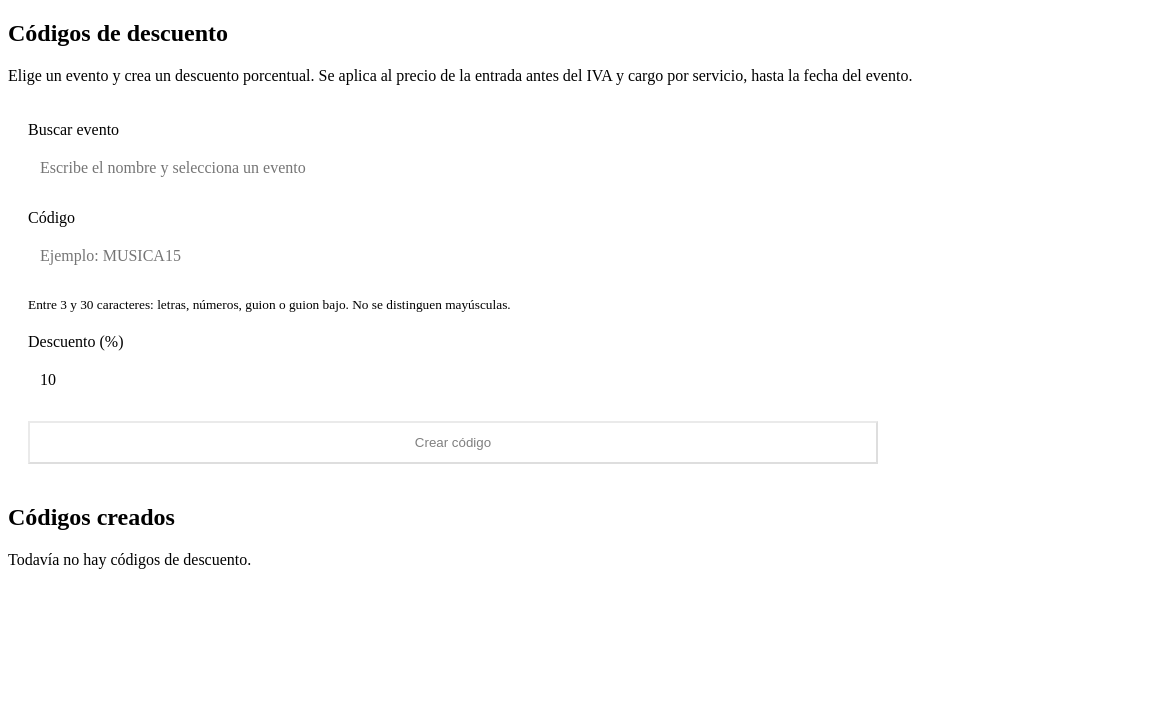
Scenario: Códigos de descuento del administrador › muestra el error del backend si el código ya existe
The width and height of the screenshot is (1152, 720).
Type "rock" into the dropdown labelled "Buscar evento" at coordinates (453, 168), box [28, 147, 878, 189]
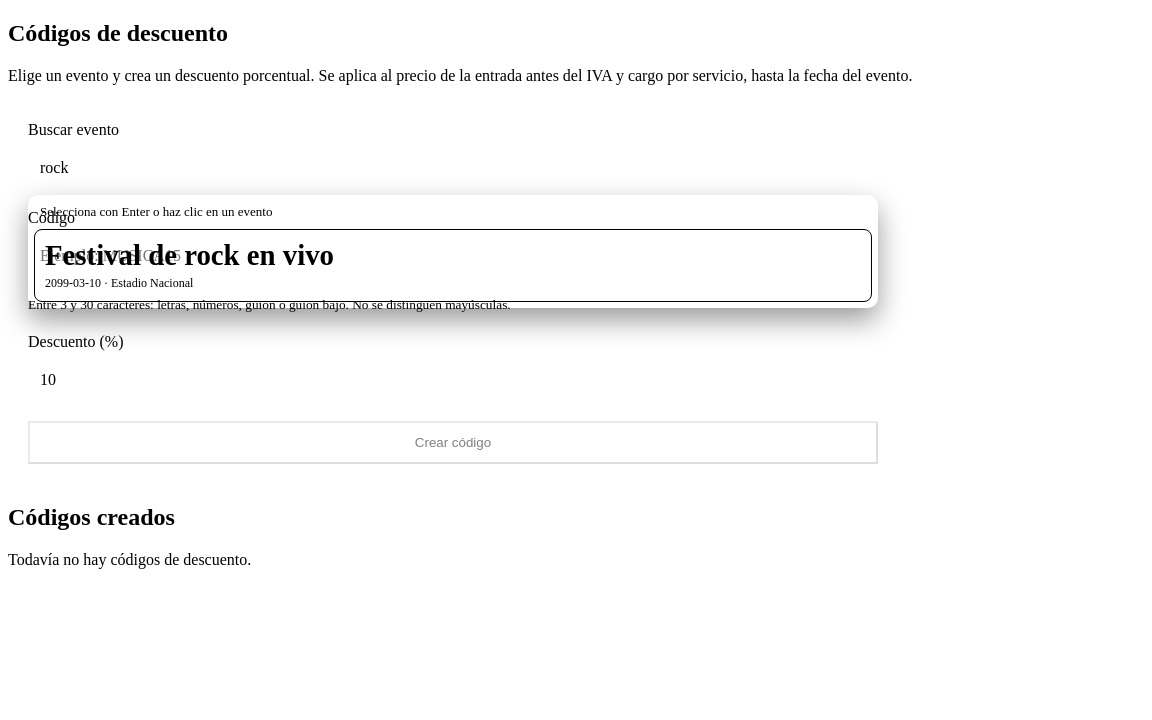
Click the option "Festival de rock en vivo 2099-03-10 · Estadio Nacional" at coordinates (190, 255), box [34, 229, 872, 302]
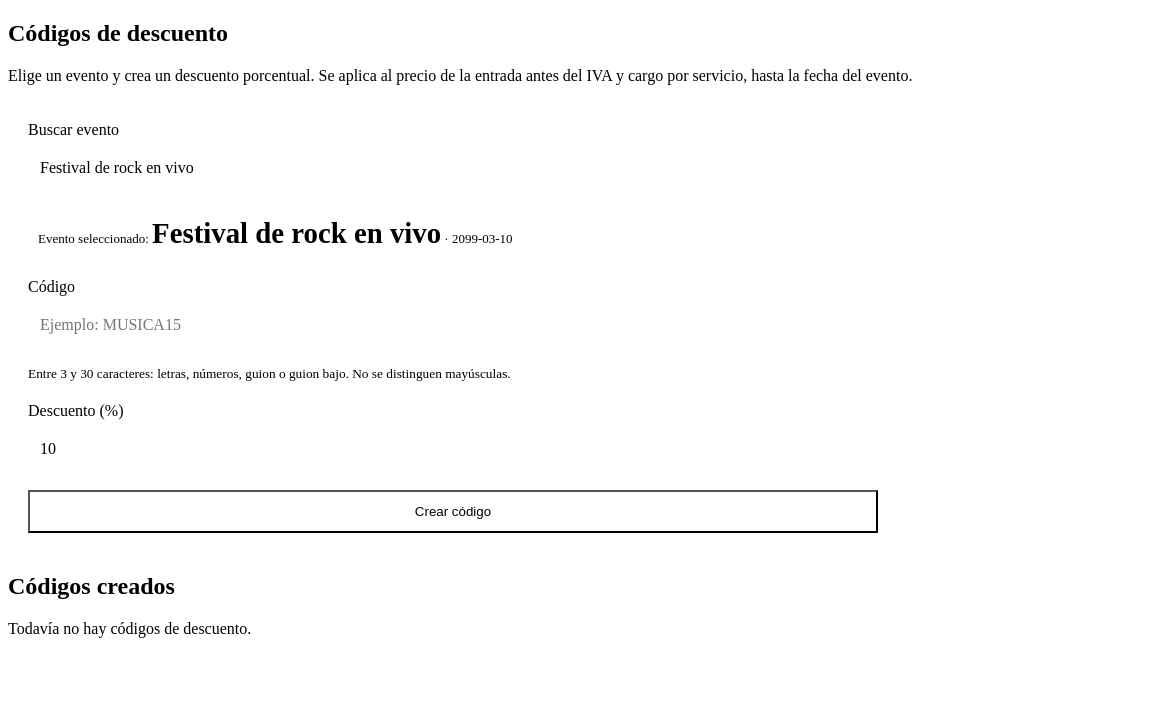
Type "musica15" into the field labelled "Código" at coordinates (453, 325), box [28, 304, 878, 346]
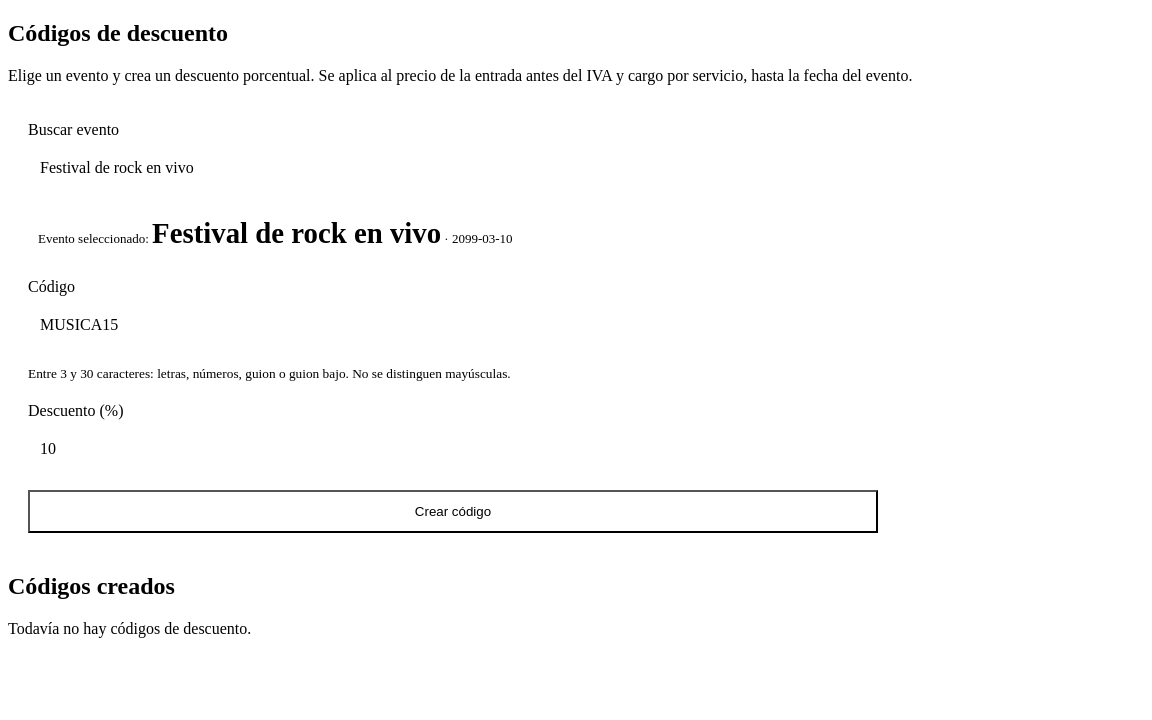
Replace the text in the number field labelled "Descuento (%)" with "15" at coordinates (453, 449), box [28, 428, 878, 470]
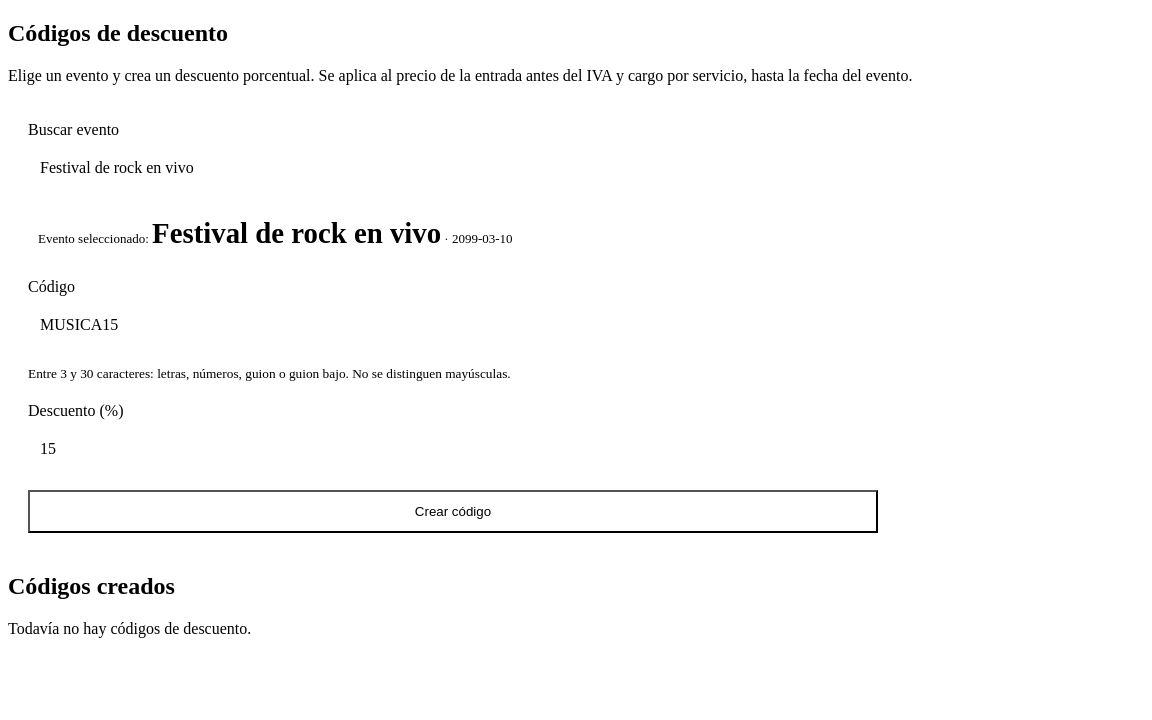
Submit the form, box [8, 101, 898, 553]
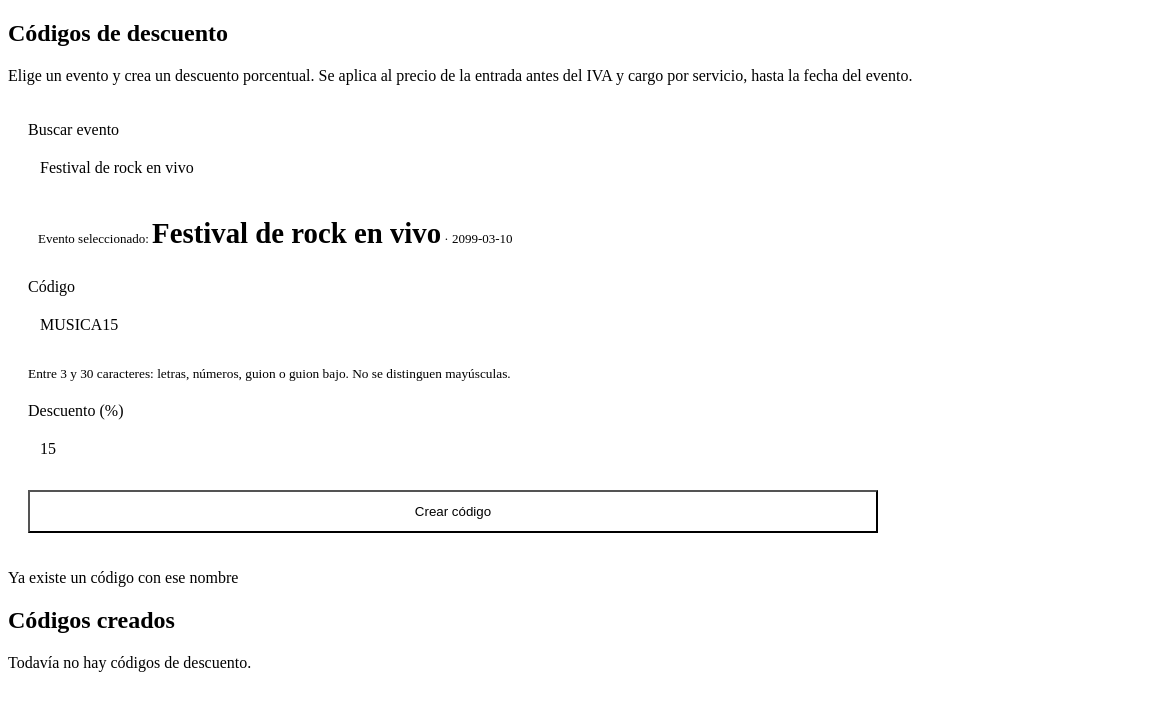
Now the text "Ya existe un código con ese nombre" is shown, box [8, 569, 238, 586]
